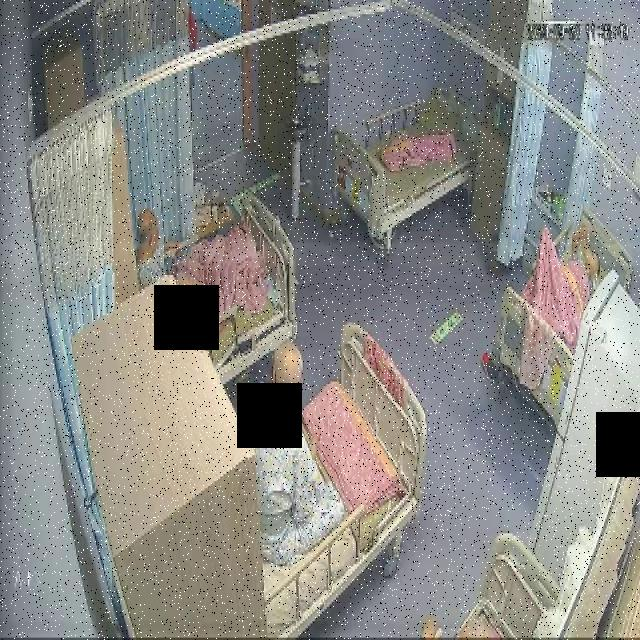bed: (232, 327, 428, 640), (493, 210, 632, 425), (162, 200, 294, 384), (336, 82, 478, 240)
lie: (532, 210, 602, 311)
patient: (240, 338, 332, 566), (134, 208, 216, 338), (570, 213, 602, 288)
sit: (241, 338, 332, 564), (135, 208, 255, 338)
